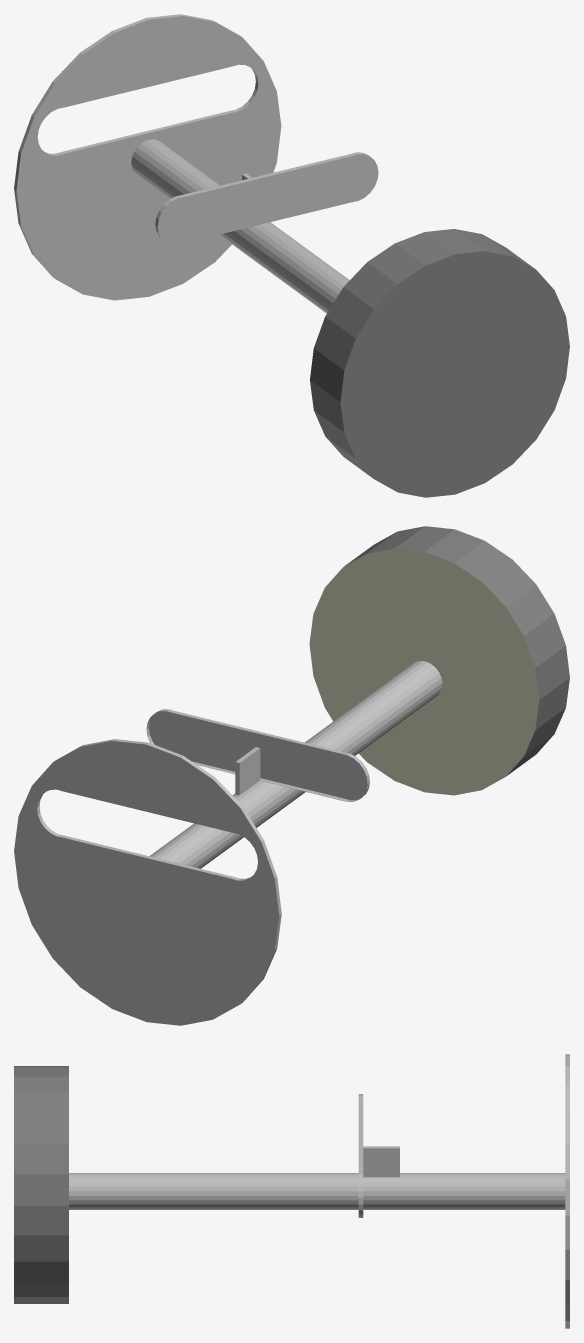
3 renders of one model, top to bottom at view 1: azimuth 30°, elevation 25°; view 2: azimuth 150°, elevation 25°; view 3: azimuth 270°, elevation 25°, orthographic. The views are drawn at different scales.
Visible parts, largest first — view 1: stool; view 2: stool; view 3: stool.
Part boxes in pixels (left/top/right/bottom): stool: left=14, top=14, right=569, bottom=497; stool: left=14, top=526, right=569, bottom=1025; stool: left=14, top=1054, right=569, bottom=1328.
Bounding box in the file's own units: 15 × 15 × 30.25.
